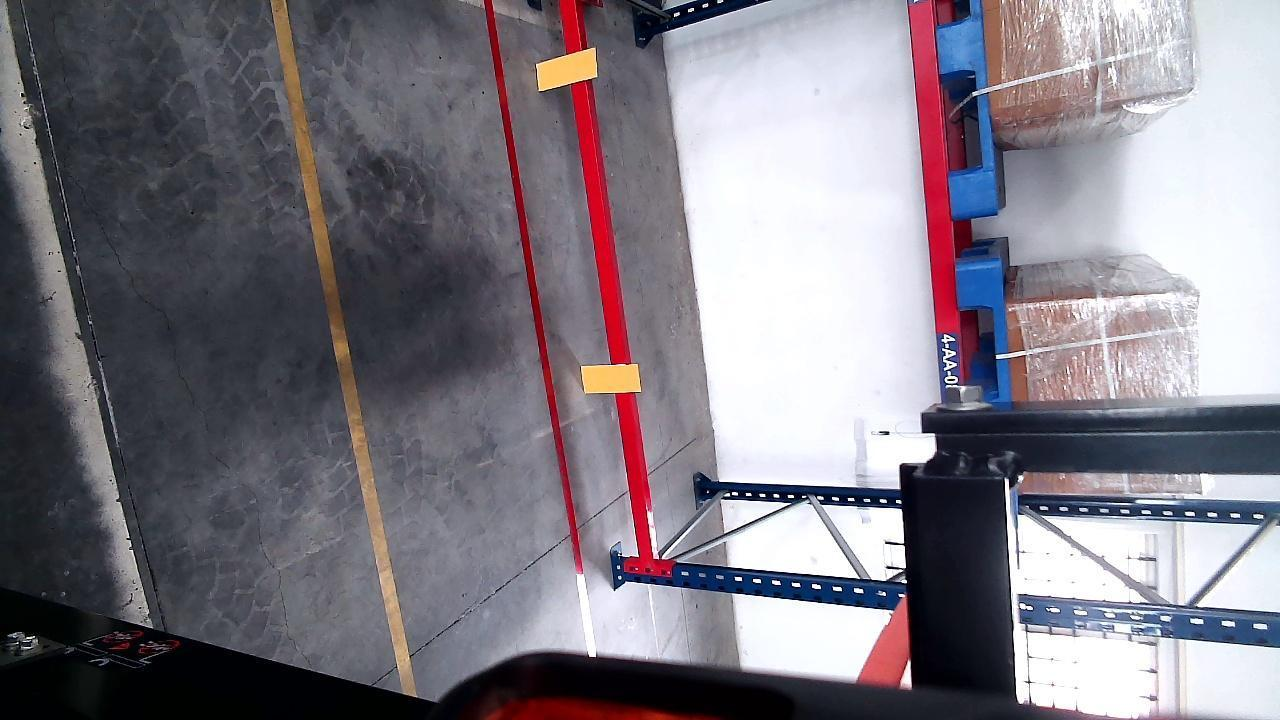h_rack: (566, 1, 659, 578), (911, 0, 960, 404), (1015, 600, 1280, 640)
orange_strip: (538, 47, 598, 91), (584, 363, 640, 394)
red_line: (482, 0, 586, 601)
small_pallet: (934, 0, 996, 199), (960, 263, 1008, 398)
yellow_line: (259, 0, 429, 703)
